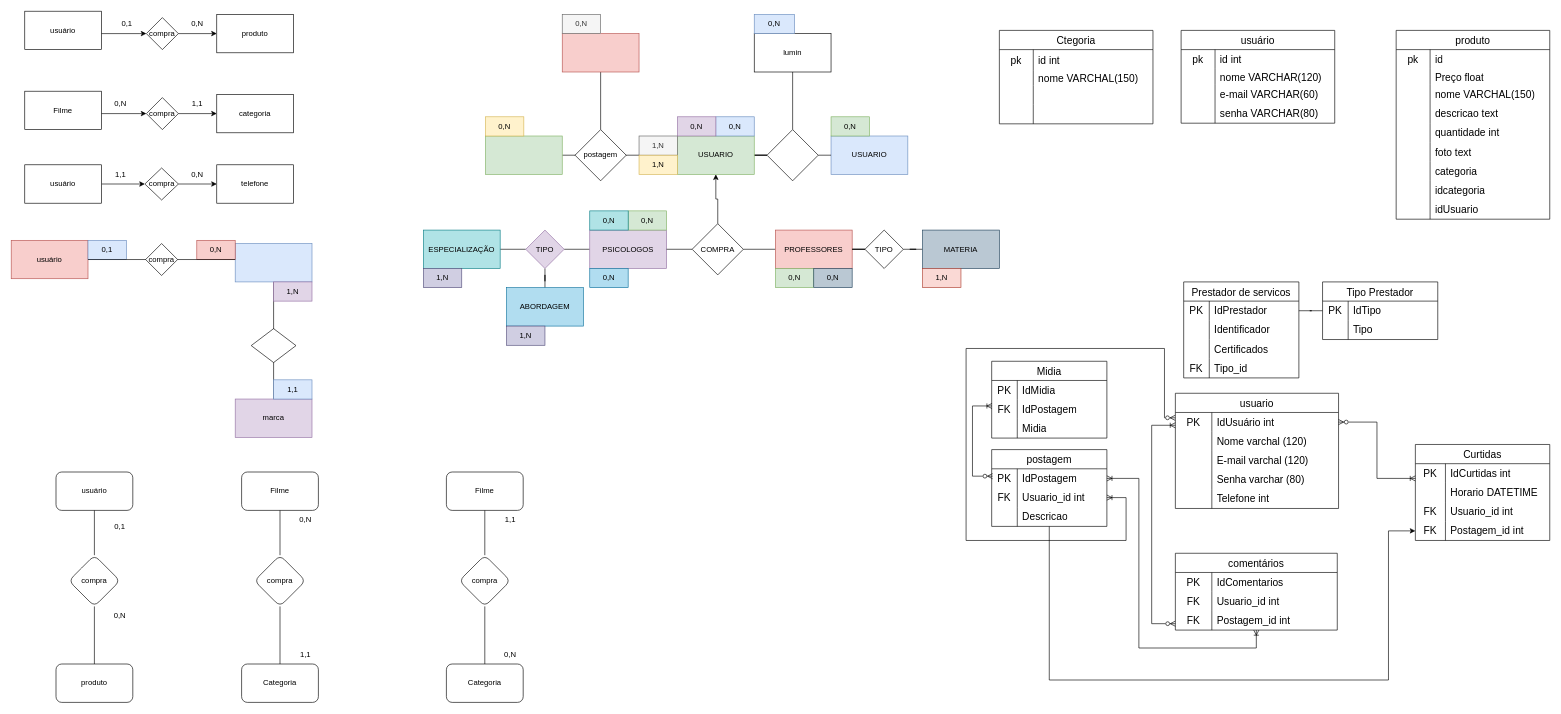
The diagram is 1561 pixels wide and 714 high, and some of its shapes have lost their labels. Here are the shapes that lost their labels. From the top down, the centre of each, then its label:
At point (600, 52): "curtidas/comentários".
At point (523, 154): "posts".
At point (792, 155): "INTERAÇÃO".
At point (273, 262): "carro".
At point (273, 345): "possui".
